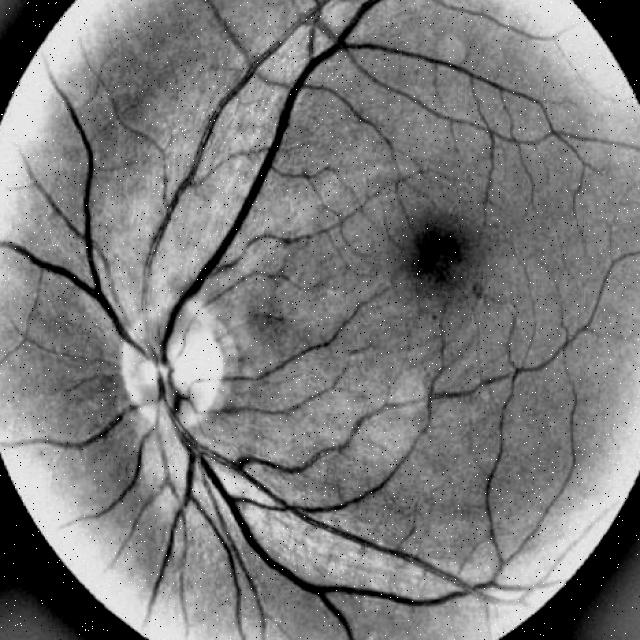Macula: (392, 201, 499, 317)
Nerves: (0, 0, 518, 639)
Optic Disk: (83, 281, 268, 447)
